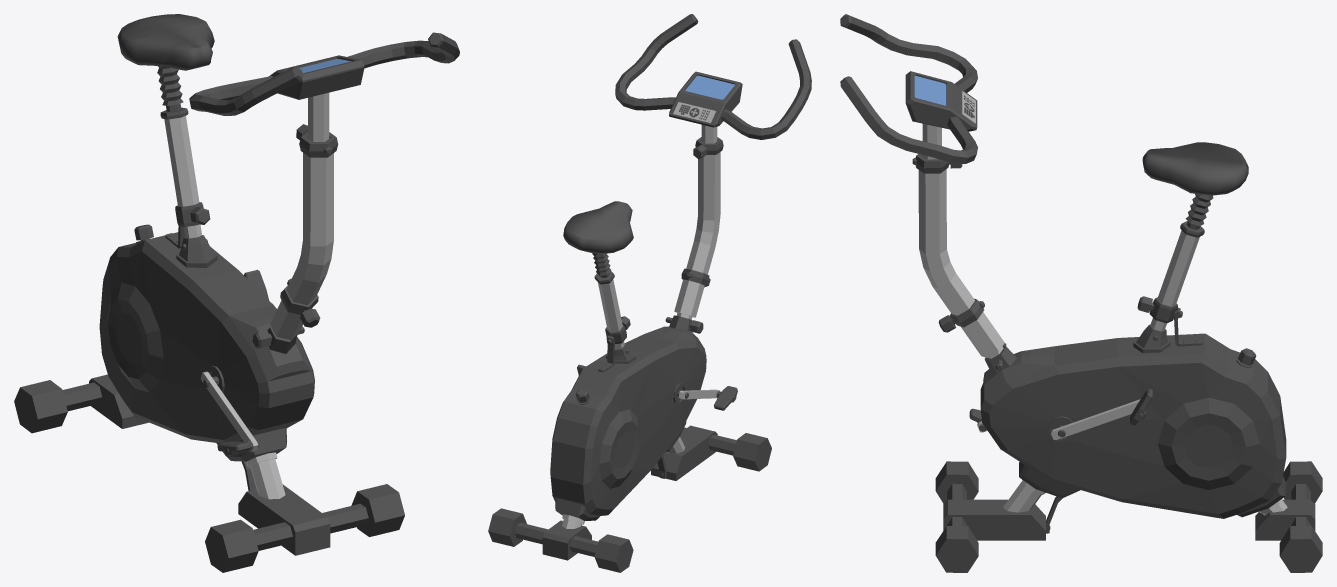
The model's file is bike.fbx.
3 views of the same model, side by side, from view 1: azimuth 30°, elevation 25°; view 2: azimuth 150°, elevation 25°; view 3: azimuth 270°, elevation 25° (orthographic). The views are drawn at different scales.
Parts seen in each view (by area): view 1: Cube.009; view 2: Cube.009; view 3: Cube.009.
Part boxes in pixels (box(x1,y1,x2,y2)): Cube.009: box(14, 14, 459, 572); Cube.009: box(488, 14, 811, 572); Cube.009: box(840, 14, 1322, 572).
Size of the model in its own units: 35.51 by 77.63 by 69.55.
